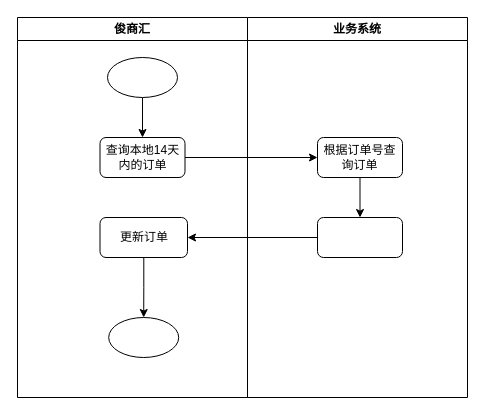
Some shapes in this 485 by 415 pixel diagram are drawn without their labels. Each missing label, with the centre of its shape:
开始: point 142,77
结束: point 143,337
返回订单: point 359,237
